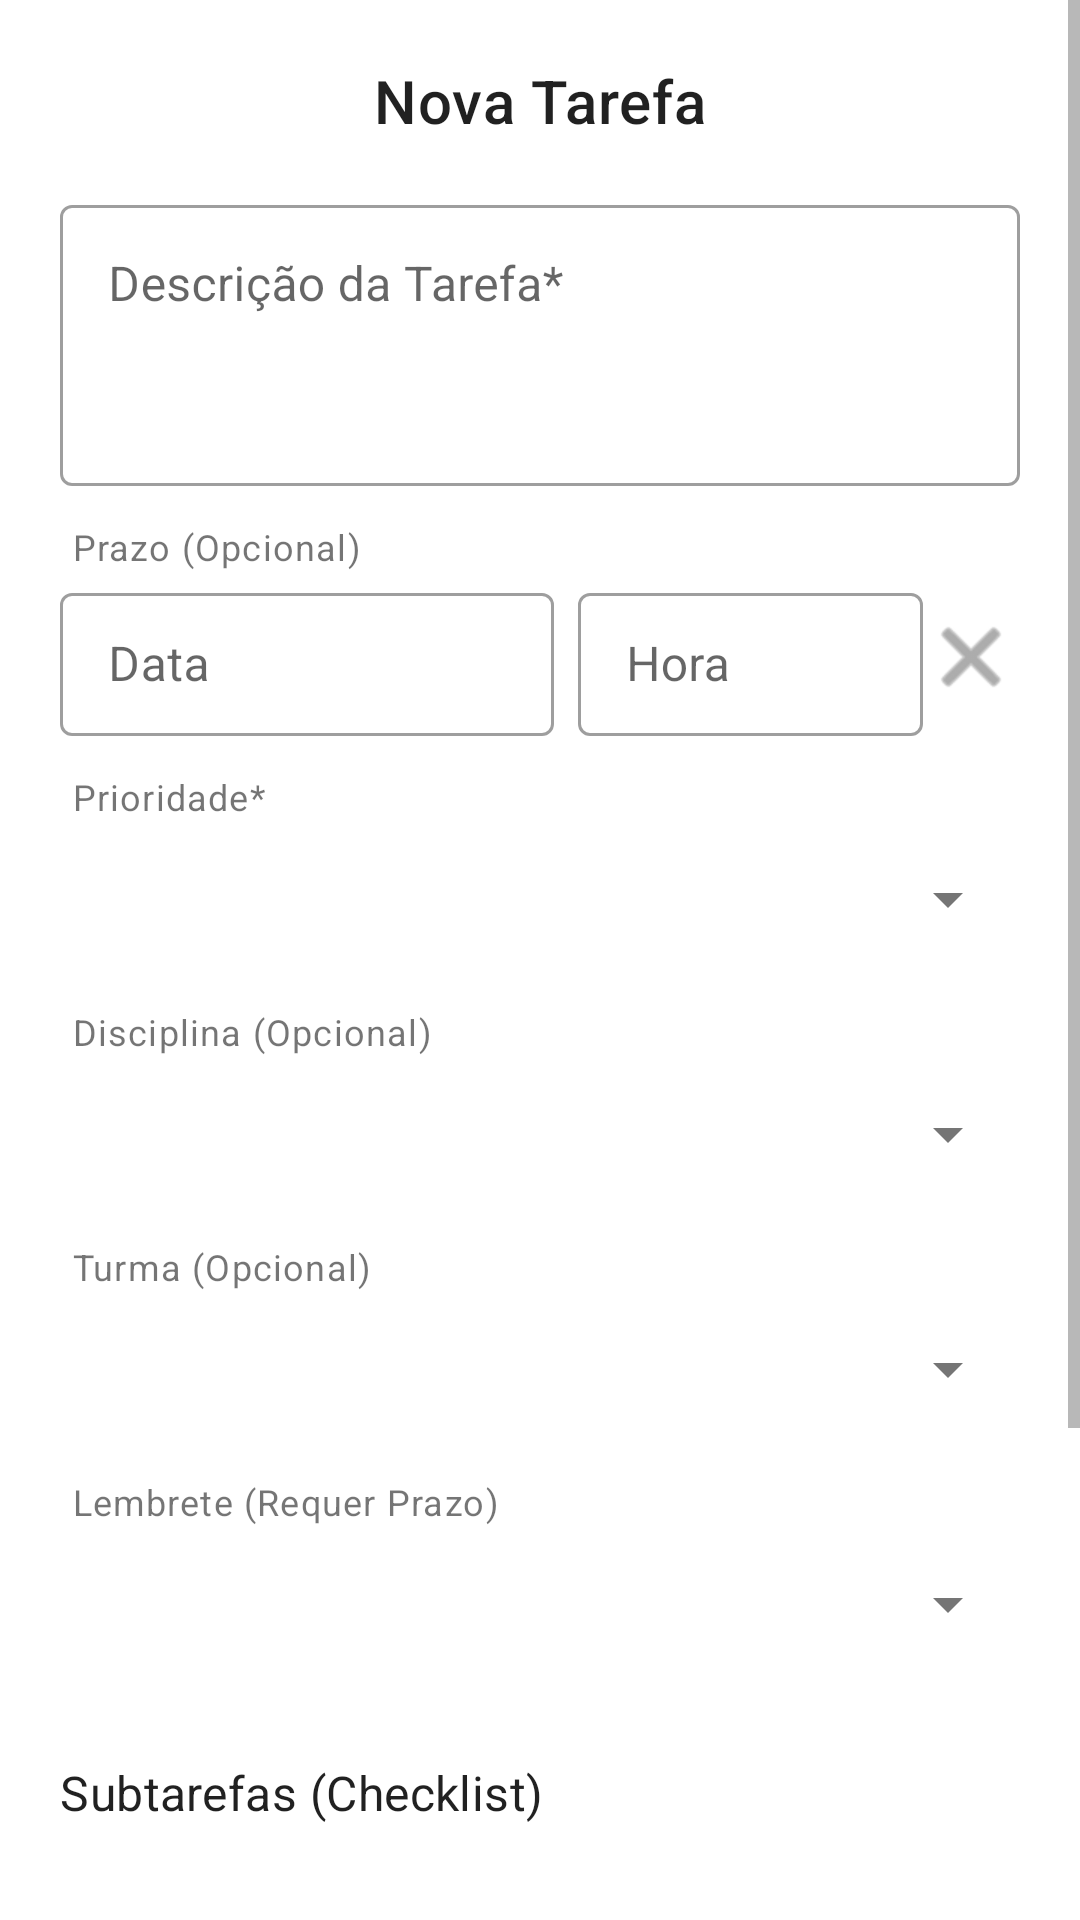

Named icons in this screenshot (1080×1920) and their centers, (x=x, y=y):
Limpar Prazo: (x=971, y=657)
